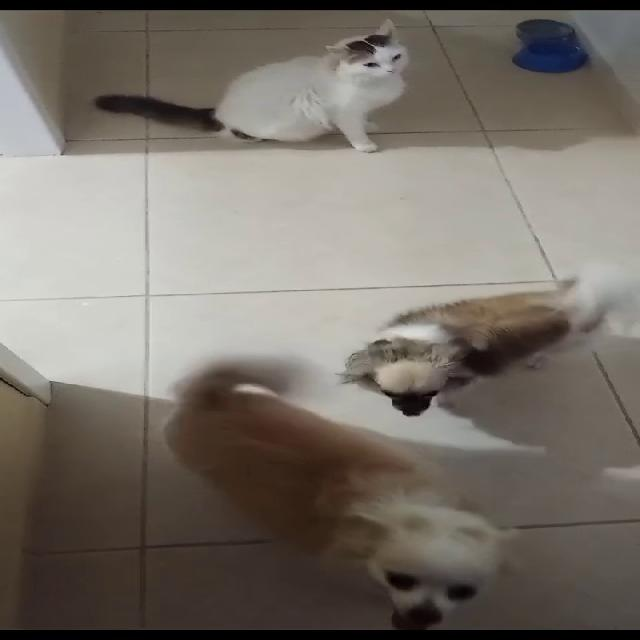Pedrita: (340, 253, 638, 413)
Simba: (169, 22, 482, 153)
Theo: (157, 342, 537, 631)
